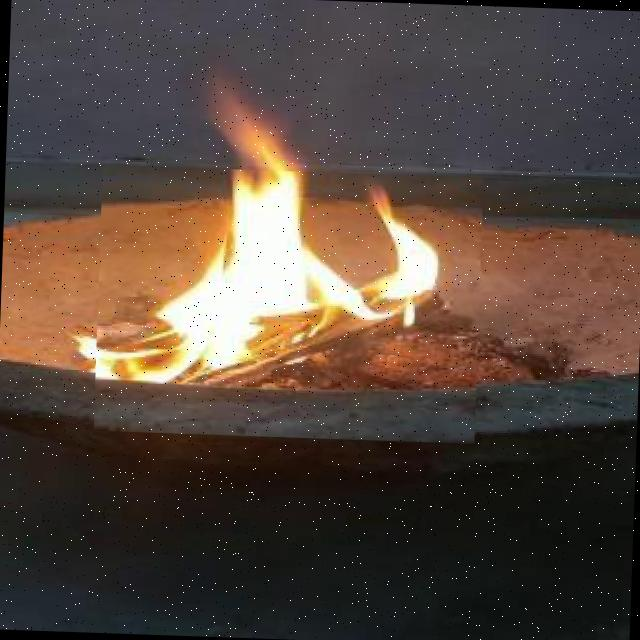fire: (93, 164, 483, 443)
